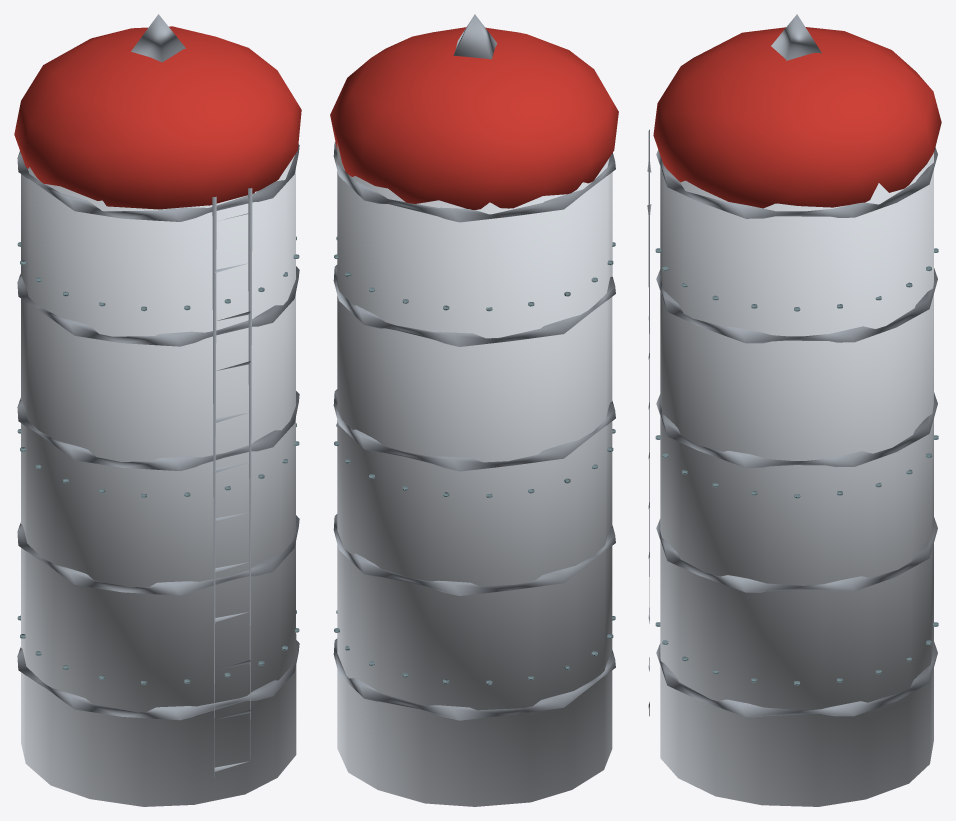
The model's file is silo_mobile.glb.
The picture shows the model from 3 angles, left to right: view 1: azimuth 30°, elevation 25°; view 2: azimuth 150°, elevation 25°; view 3: azimuth 270°, elevation 25°; orthographic projection.
Visible parts, largest first — view 1: Silo, CraftDetails; view 2: Silo, CraftDetails; view 3: Silo, CraftDetails.
Boxes of the visible parts, box(x1,y1,x2,y2) form: Silo: box(14, 14, 301, 806); CraftDetails: box(17, 236, 299, 684); Silo: box(330, 14, 618, 806); CraftDetails: box(334, 237, 615, 684); Silo: box(647, 14, 941, 806); CraftDetails: box(655, 248, 938, 685).
Bounding box in the file's own units: 4.2 × 11.8 × 4.28.
